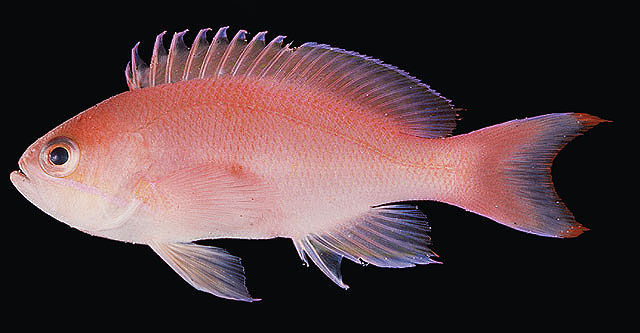fish: (9, 25, 613, 302)
